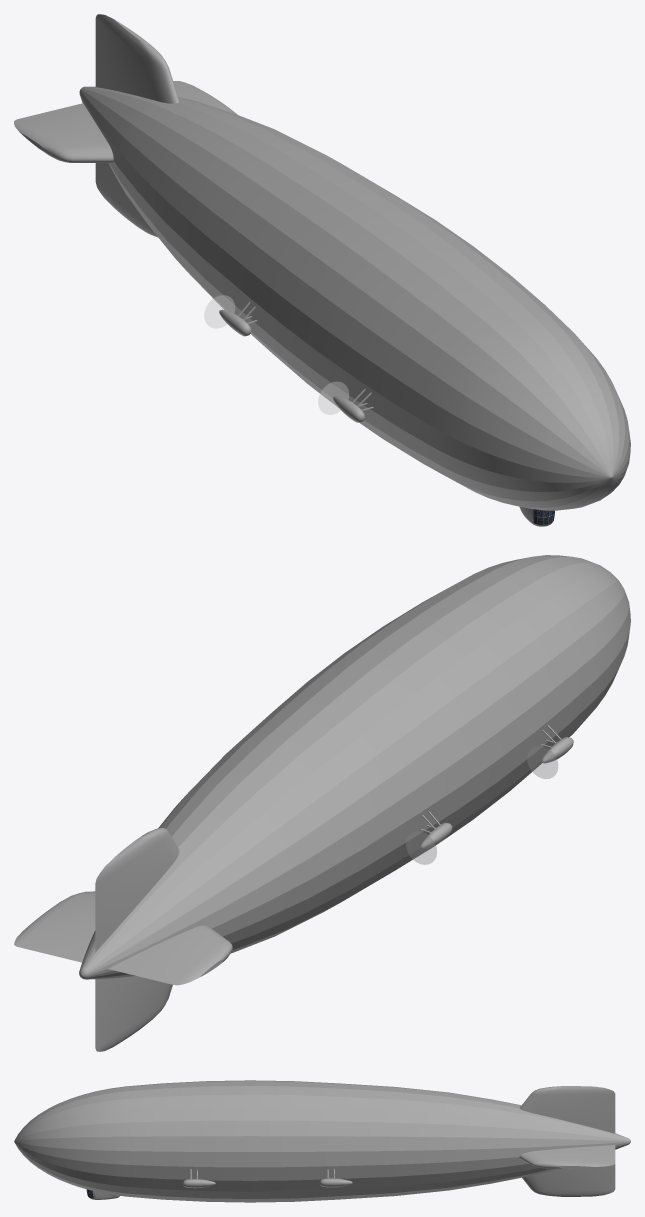
File: zep.dae
The picture shows the model from 3 angles, top to bottom: view 1: azimuth 30°, elevation 25°; view 2: azimuth 150°, elevation 25°; view 3: azimuth 270°, elevation 25°; orthographic projection. The views are drawn at different scales.
Visible parts, largest first — view 1: group_0, group_1, group_4, group_3; view 2: group_0, group_1, group_4, group_3, group_2, group_7, group_12; view 3: group_0, group_1, group_3, group_2, group_8, group_10.
Boxes of the visible parts, x1,y1,x2,y2 form: group_0: (79, 86, 630, 510); group_1: (95, 14, 179, 103); group_4: (14, 103, 113, 162); group_3: (95, 163, 157, 237); group_0: (79, 555, 630, 979); group_1: (95, 828, 179, 952); group_4: (108, 925, 232, 985); group_3: (95, 976, 172, 1051); group_2: (14, 891, 95, 962); group_7: (406, 831, 436, 864); group_12: (527, 746, 557, 778); group_0: (14, 1080, 630, 1202); group_1: (519, 1086, 615, 1133); group_3: (522, 1164, 615, 1196); group_2: (519, 1145, 615, 1168); group_8: (320, 1178, 352, 1187); group_10: (182, 1179, 215, 1188).
Bounding box in the file's own units: 786 × 2995 × 603.
